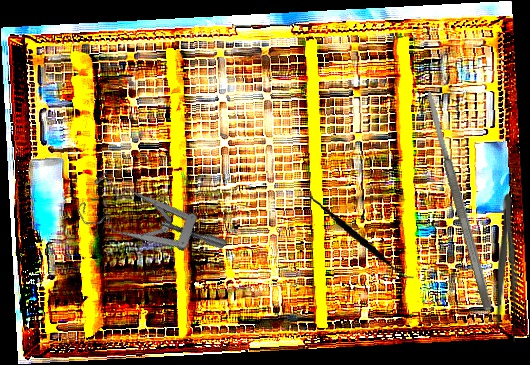Dressing Forceps: (496, 193, 519, 342)
Spatula Surgical: (423, 87, 494, 313), (289, 193, 423, 281)
Speculum: (68, 147, 230, 304)
